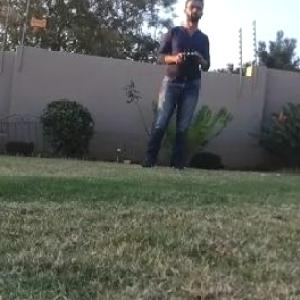follow: (133, 0, 216, 178)
